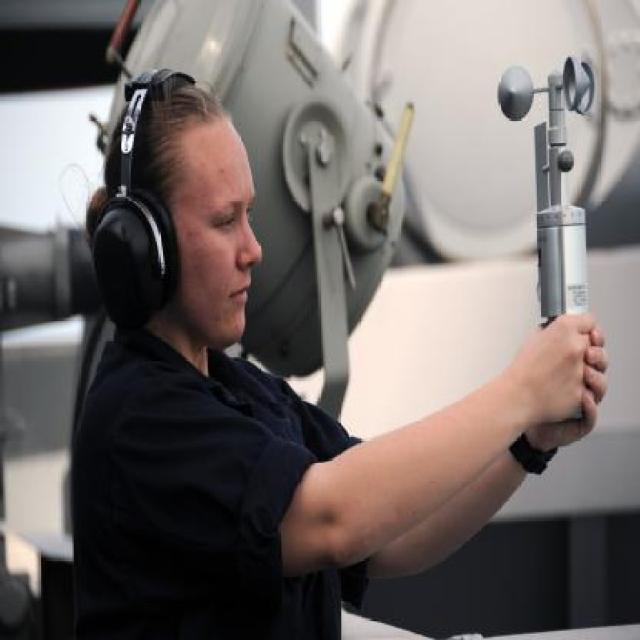earphone: (87, 37, 195, 345)
